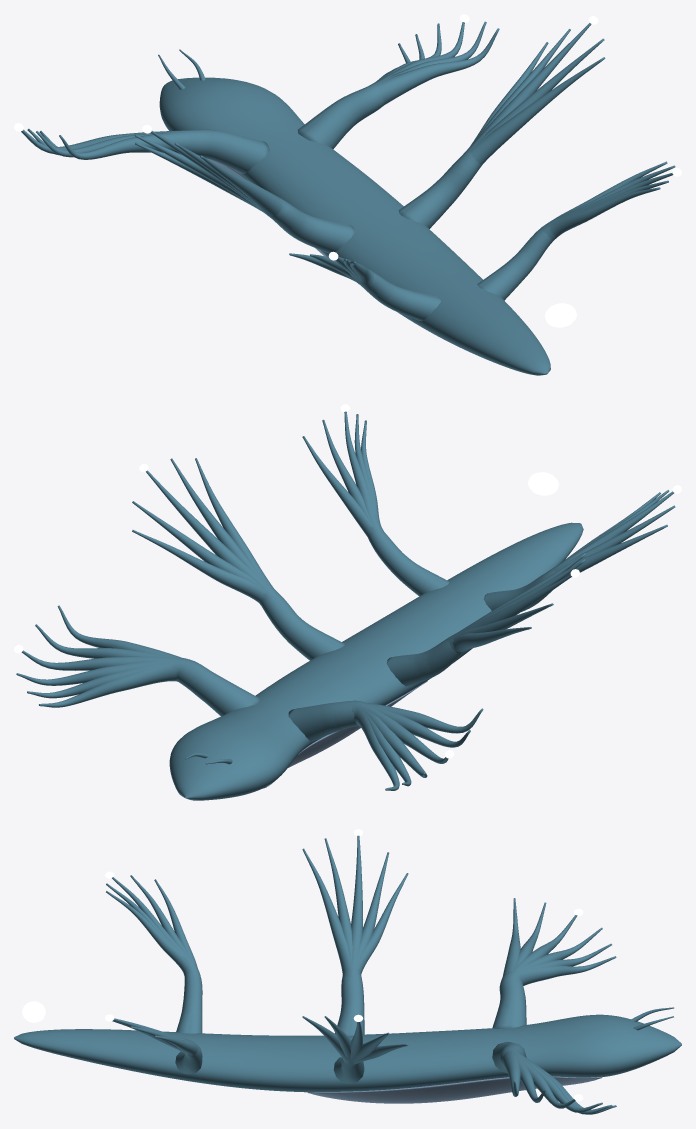
The picture shows the model from 3 angles, top to bottom: view 1: azimuth 30°, elevation 25°; view 2: azimuth 150°, elevation 25°; view 3: azimuth 270°, elevation 25°; orthographic projection. The views are drawn at different scales.
Parts seen in each view (by area): view 1: RIMWARD_HULL, RIMWARD_ENGINE_GLOW; view 2: RIMWARD_HULL, RIMWARD_ENGINE_GLOW; view 3: RIMWARD_HULL.
Boxes of the visible parts, bbox=[...] form: RIMWARD_HULL: bbox=[21, 21, 675, 375]; RIMWARD_ENGINE_GLOW: bbox=[545, 303, 576, 327]; RIMWARD_HULL: bbox=[16, 411, 675, 800]; RIMWARD_ENGINE_GLOW: bbox=[527, 472, 558, 495]; RIMWARD_HULL: bbox=[14, 835, 681, 1114].
Bounding box in the file's own units: 7.37 × 3.26 × 11.
